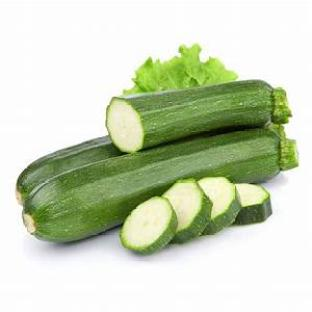Zucchini: (23, 129, 297, 241), (107, 81, 291, 152), (16, 137, 122, 203), (120, 197, 177, 253), (164, 179, 212, 243), (199, 177, 240, 235), (235, 184, 272, 224)
